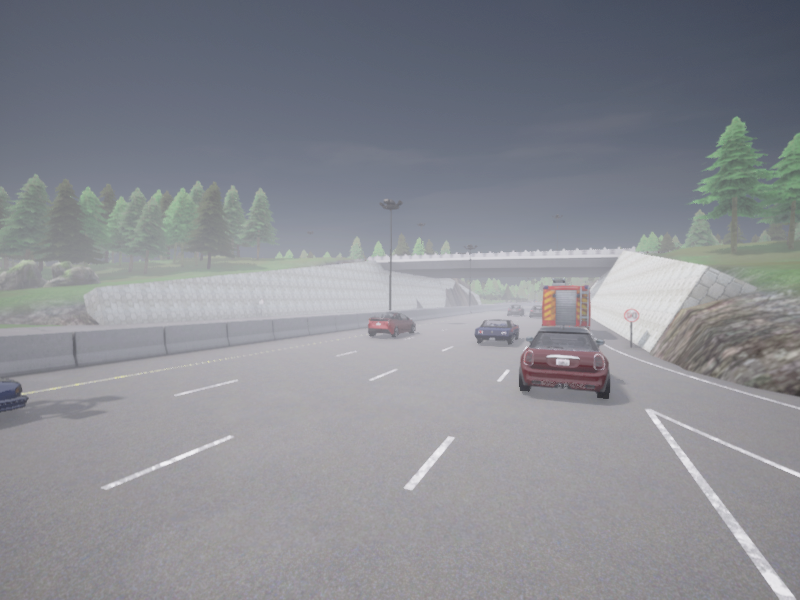vehicle: (519, 324, 609, 399), (542, 278, 590, 331), (368, 312, 415, 337), (475, 319, 518, 344), (0, 377, 28, 411), (508, 305, 524, 315), (530, 305, 541, 317)
